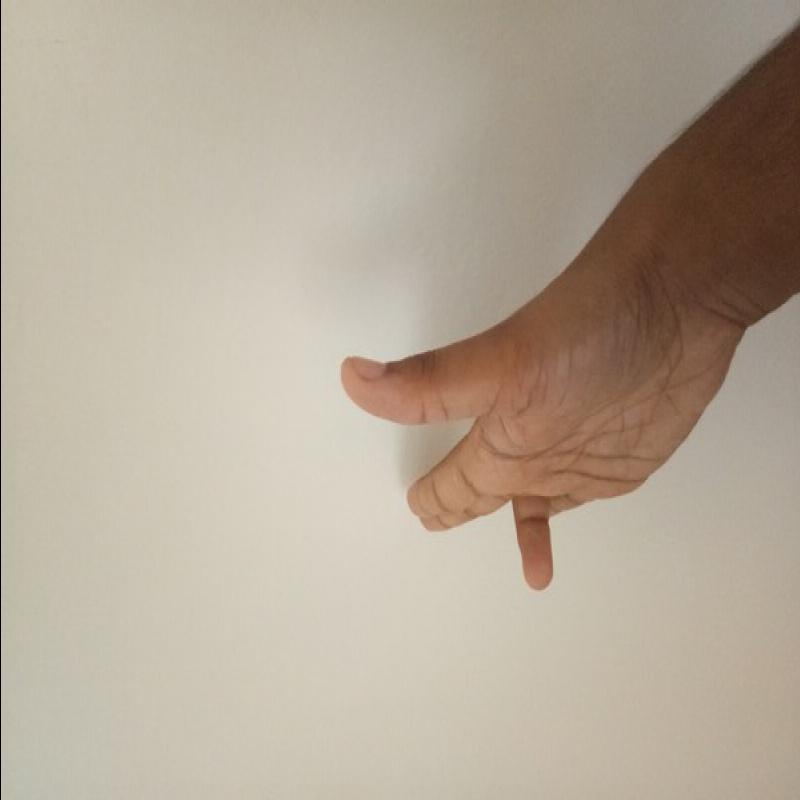Pathaaka: (319, 287, 752, 598)
